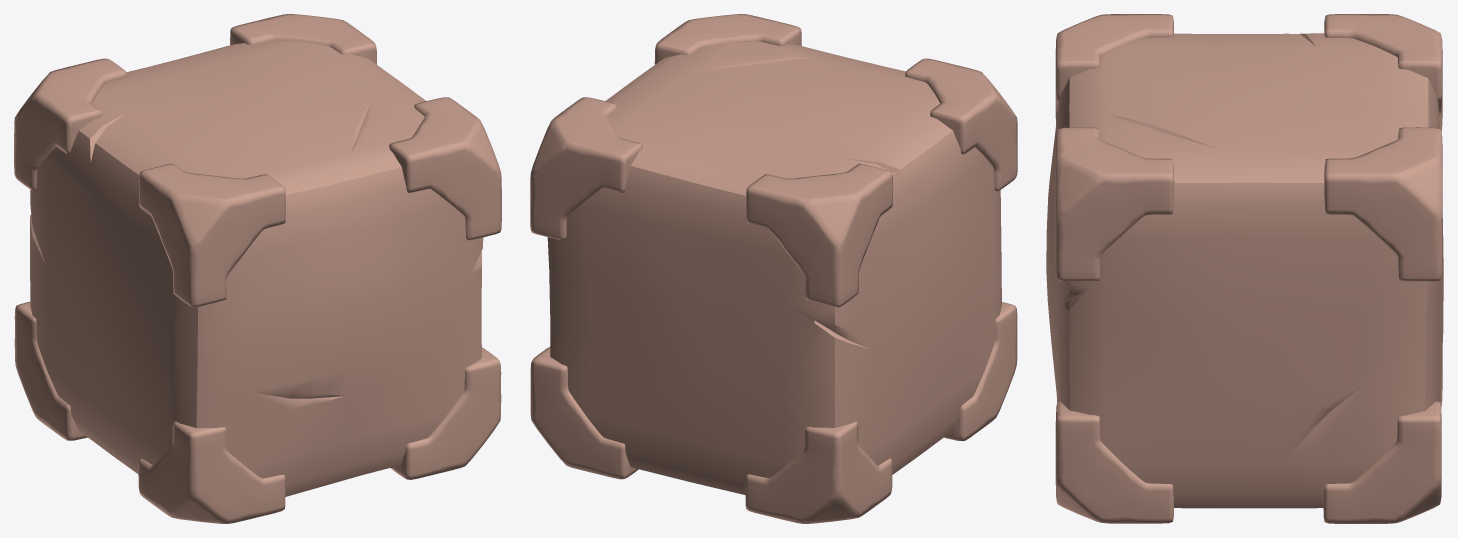
Rendered from Dice.fbx.
The picture shows the model from 3 angles, left to right: view 1: azimuth 30°, elevation 25°; view 2: azimuth 150°, elevation 25°; view 3: azimuth 270°, elevation 25°; orthographic projection. The views are drawn at different scales.
Visible parts, largest first — view 1: Dice; view 2: Dice; view 3: Dice.
Part boxes in pixels (bbox=[...]): Dice: bbox=[14, 14, 501, 523]; Dice: bbox=[530, 14, 1017, 523]; Dice: bbox=[1046, 14, 1443, 523].
Size of the model in its own units: 12.93 by 12.88 by 13.13.
